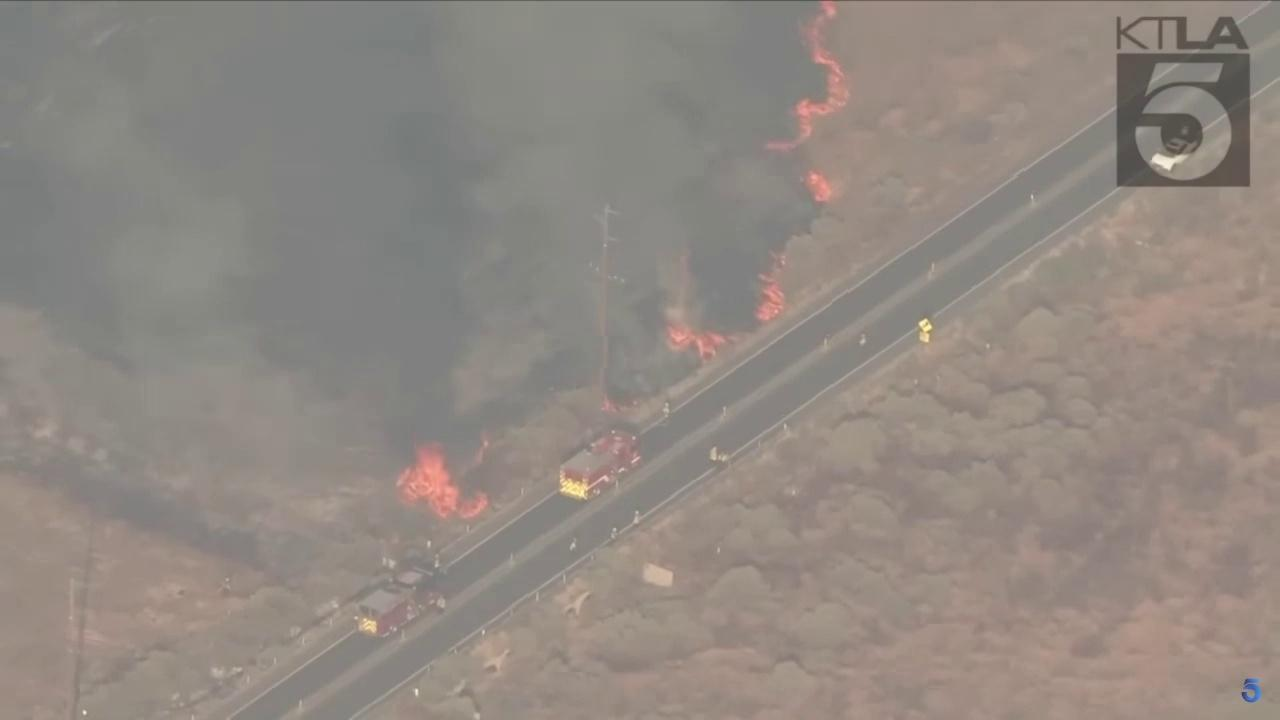fire: (766, 0, 852, 154), (394, 428, 491, 520), (660, 321, 729, 362), (754, 275, 786, 329), (804, 168, 835, 204)
smoke: (0, 0, 830, 491)
